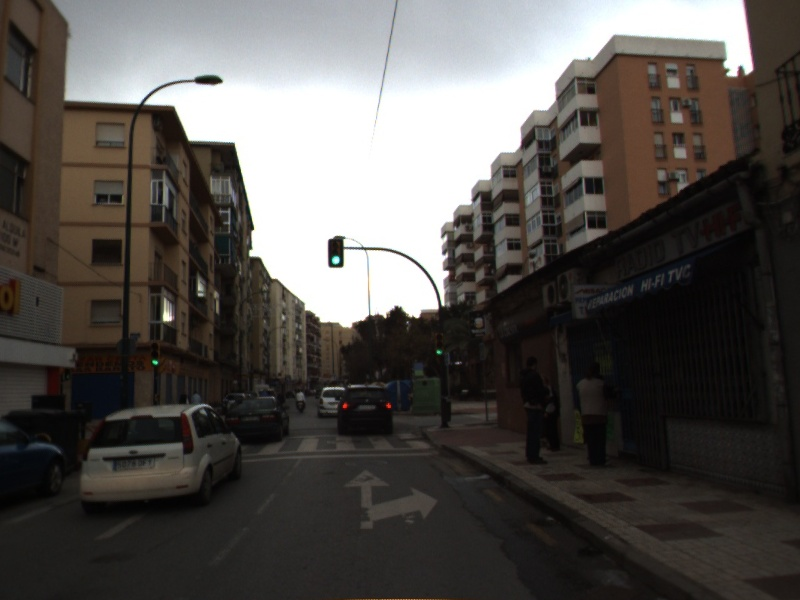STRAIGHT_RIGHT: (341, 467, 441, 532)
